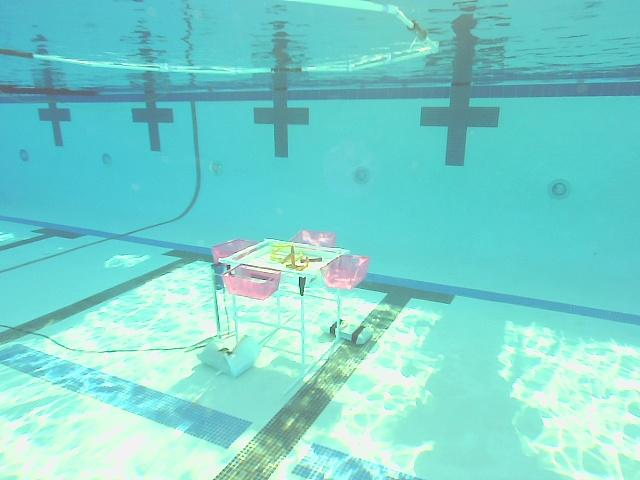table: (210, 228, 371, 369)
